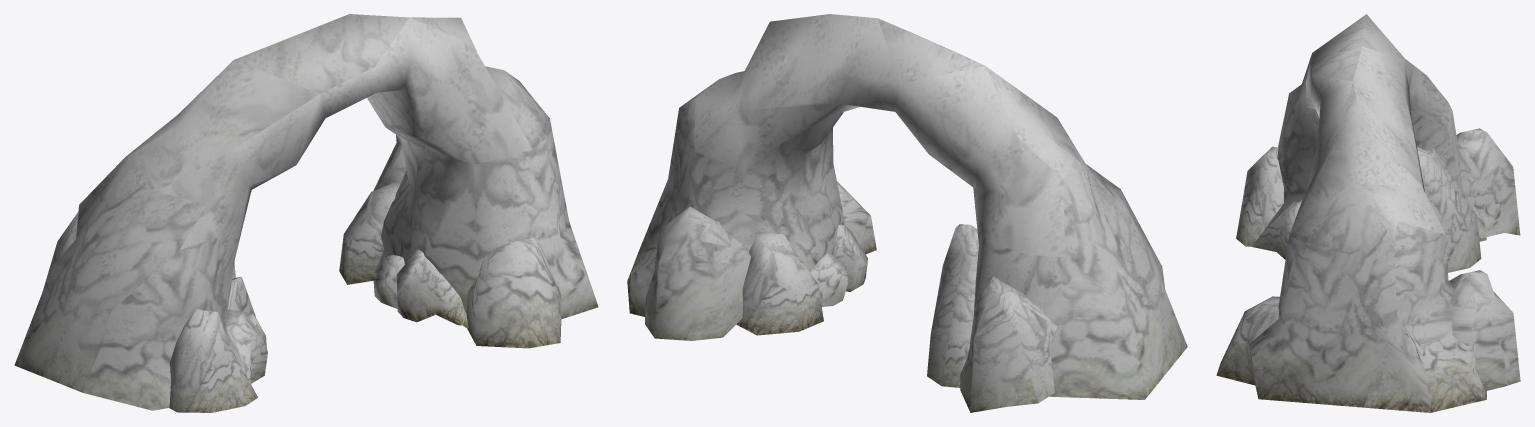
The model's file is general_obj_bigstonegate01_lod_01.fbx.
3 renders of one model, left to right at view 1: azimuth 30°, elevation 25°; view 2: azimuth 150°, elevation 25°; view 3: azimuth 270°, elevation 25°, orthographic. The views are drawn at different scales.
Parts seen in each view (by area): view 1: Object03; view 2: Object03; view 3: Object03.
Boxes of the visible parts, left/top/right/bottom form: Object03: left=14, top=14, right=598, bottom=412; Object03: left=627, top=14, right=1187, bottom=412; Object03: left=1216, top=14, right=1520, bottom=412.
Bounding box in the file's own units: 62.52 × 34.22 × 34.63.
